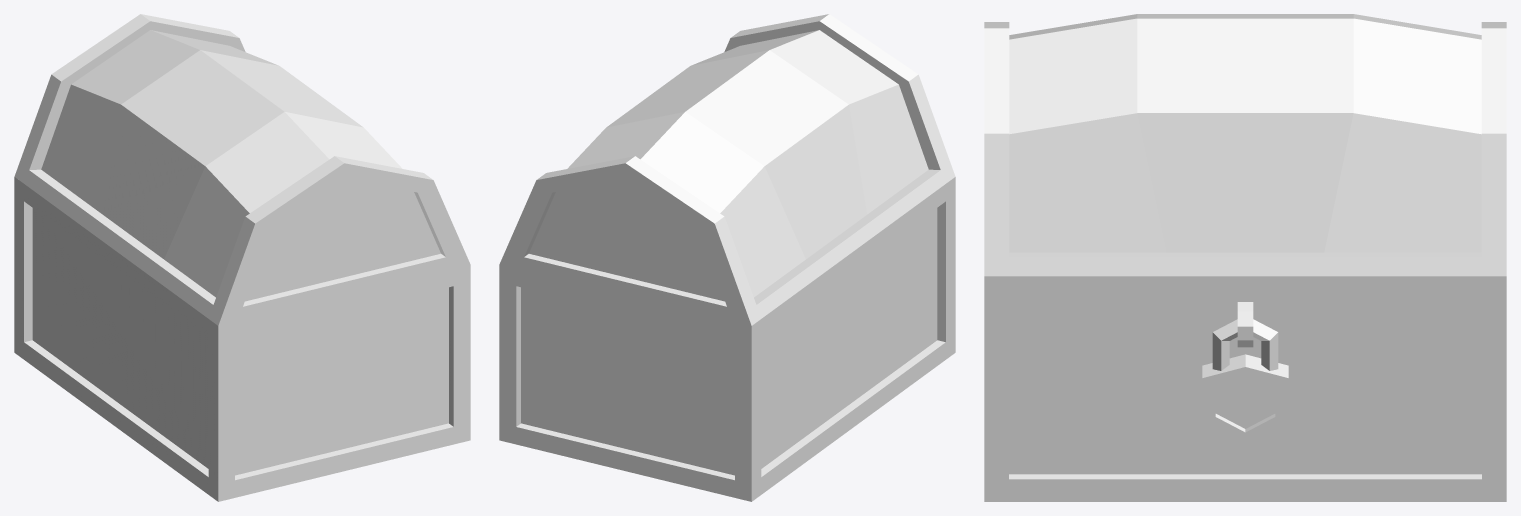
Rendered from Chest.fbx.
The picture shows the model from 3 angles, left to right: view 1: azimuth 30°, elevation 25°; view 2: azimuth 150°, elevation 25°; view 3: azimuth 270°, elevation 25°; orthographic projection. The views are drawn at different scales.
Parts seen in each view (by area): view 1: Chest_Lid, Chest_Base; view 2: Chest_Lid, Chest_Base; view 3: Chest_Lid, Chest_Base.
Part boxes in pixels (left/top/right/bottom): Chest_Lid: left=14, top=14, right=470, bottom=325; Chest_Base: left=14, top=177, right=470, bottom=501; Chest_Lid: left=499, top=14, right=955, bottom=325; Chest_Base: left=499, top=177, right=955, bottom=501; Chest_Lid: left=984, top=14, right=1506, bottom=276; Chest_Base: left=984, top=276, right=1506, bottom=501.
Size of the model in its own units: 323 by 359 by 420.
